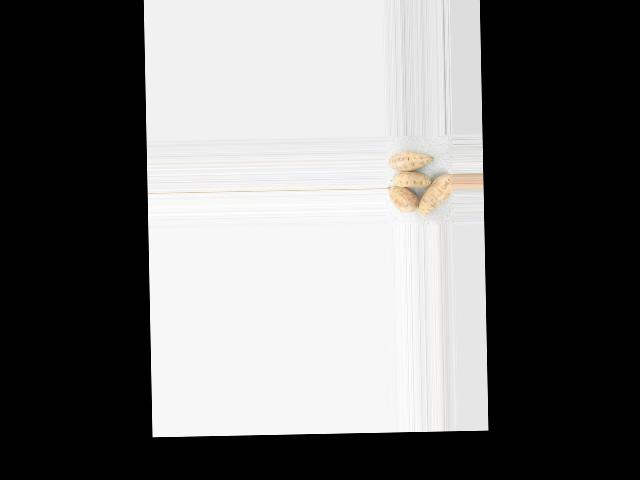sweet_potato: (417, 168, 454, 220)
